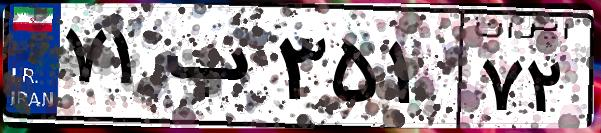1: (385, 28, 445, 110), (110, 28, 158, 98)
2: (525, 38, 570, 115)
3: (270, 28, 330, 110)
5: (330, 28, 385, 110)
7: (57, 26, 110, 100), (475, 38, 525, 113)
ب: (158, 20, 270, 120)
